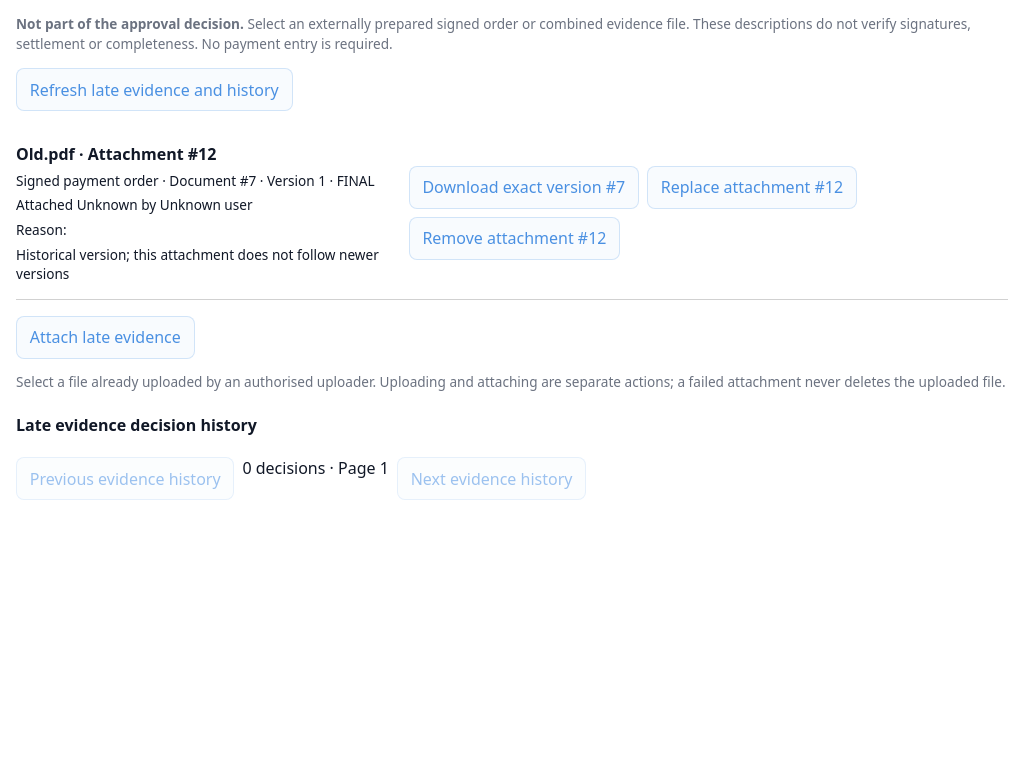
Test: conflicts preserve drafts and require review before another command
Click the button "Remove attachment #12": (514, 238) [409, 217, 620, 260]
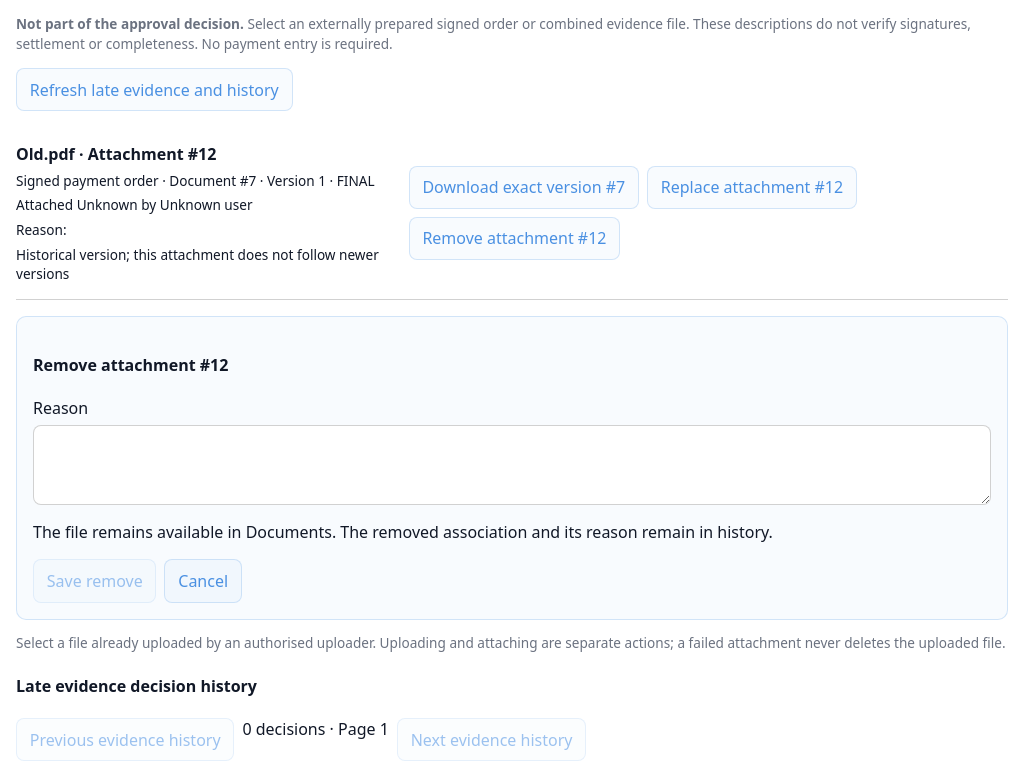
In the text box labelled "Reason": (512, 466) [33, 426, 991, 506], type "Wrong file"
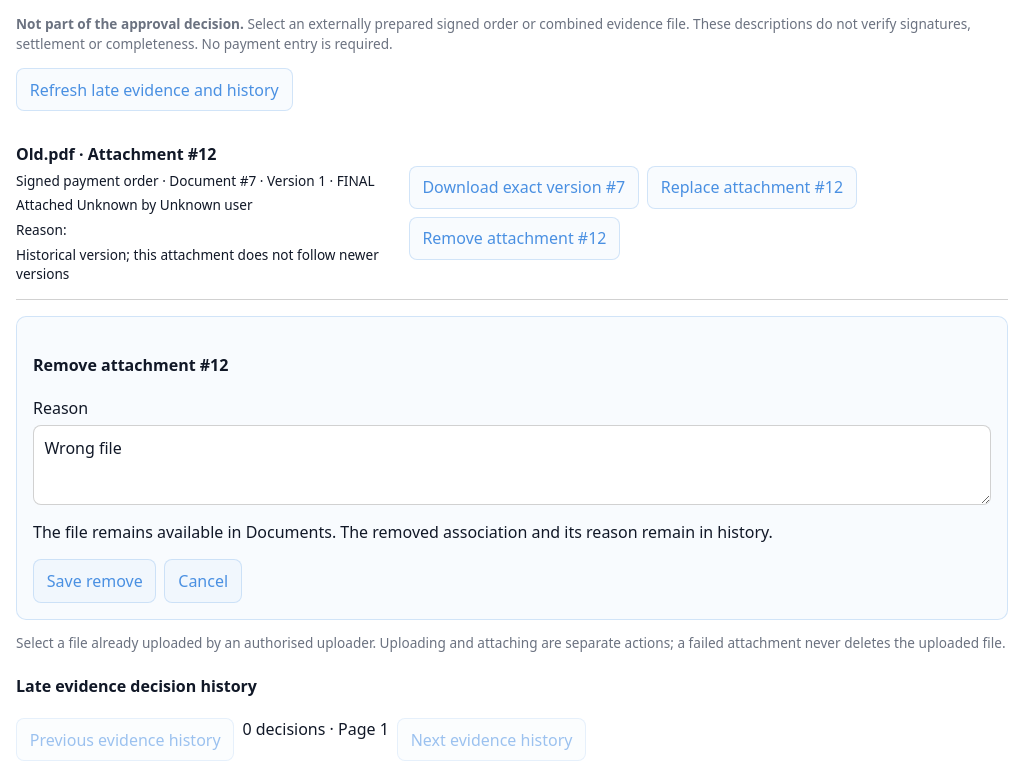
Click the button "Save remove": (95, 581) [33, 560, 156, 603]
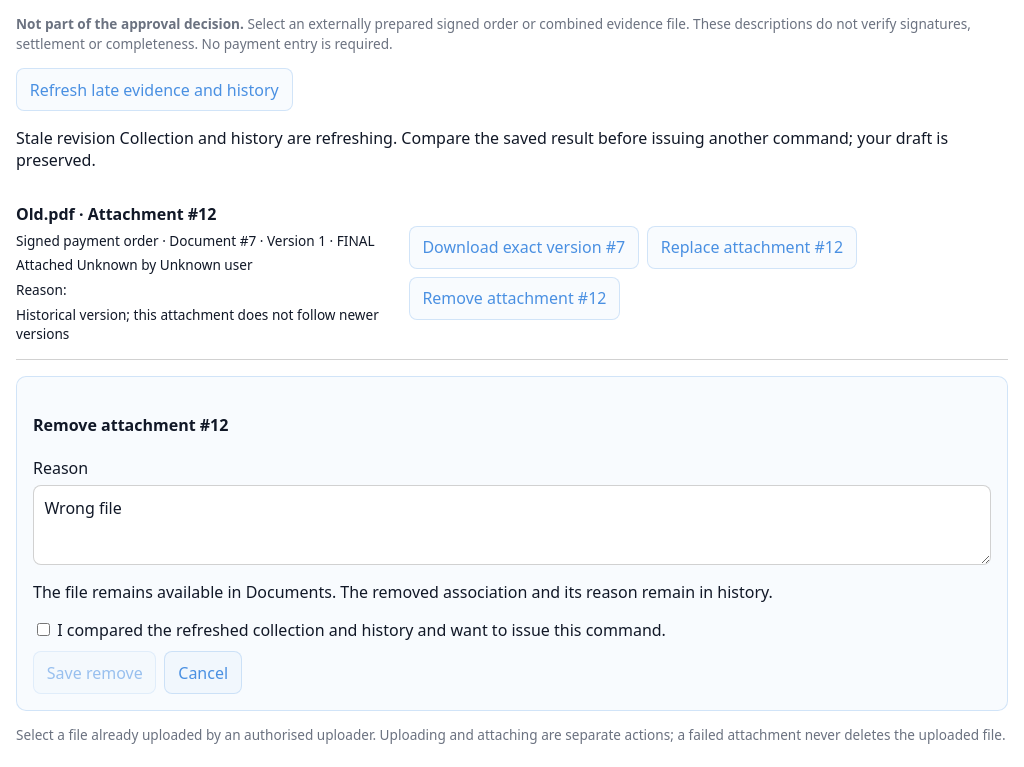
Expected: the button "Refresh late evidence and history" is enabled, [16, 68, 292, 111]
Now the text "Stale revision" is shown, box [16, 127, 948, 171]
Now the button "Save remove" is disabled, box [33, 651, 156, 694]
